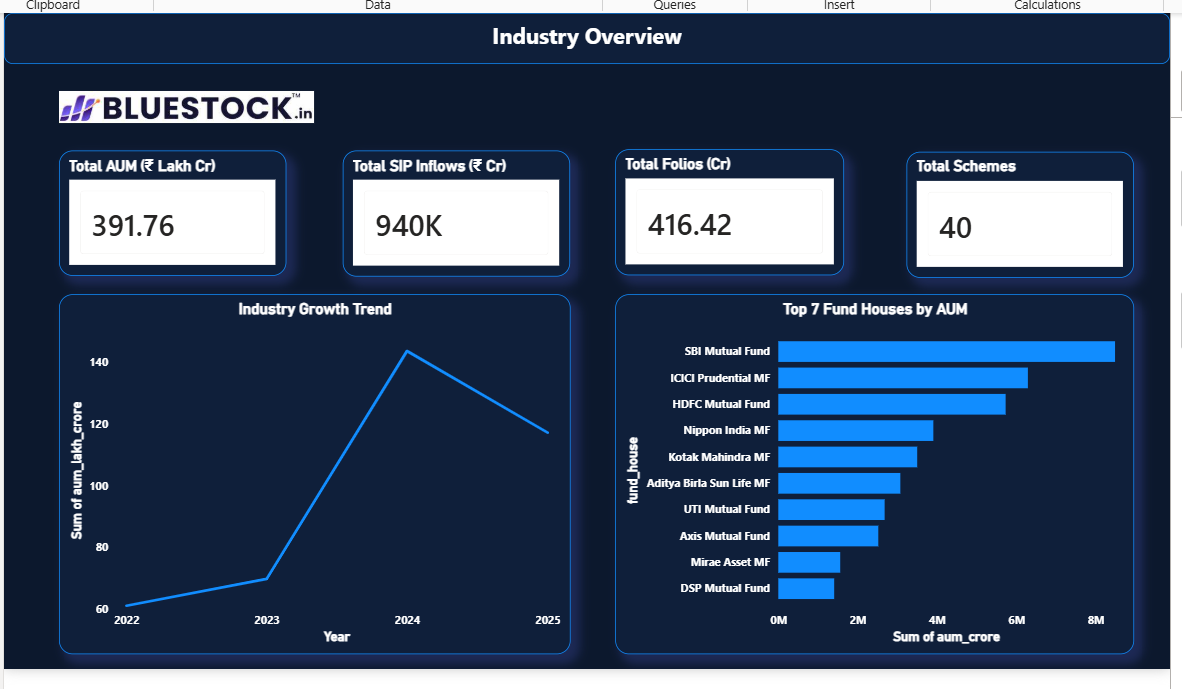

The dashboard page shown, as its layout file describes it:
{"tool":"powerbi","page":{"name":"Page 1","canvas":[1280,720],"ordinal":0},"visuals":[{"type":"textbox","box":[0,0,1280.3,56.3],"z":0},{"type":"cardVisual","title":"Total AUM (₹ Lakh Cr)","fields":{"Data":["Sum(03_aum_by_fund_house_clean.aum_lakh_crore)"]},"box":[60.4,150.9,249.7,137.2],"z":1000},{"type":"cardVisual","title":"Total SIP Inflows (₹ Cr)","fields":{"Data":["Sum(04_monthly_sip_inflows_clean.sip_inflow_crore)"]},"box":[371.9,150.9,249.7,138.6],"z":2000},{"type":"cardVisual","title":"Total Folios (Cr)","fields":{"Data":["Sum(06_industry_folio_count_clean.total_folios_crore)"]},"box":[671,149.6,251.1,138.6],"z":3000},{"type":"cardVisual","title":"Total Schemes","fields":{"Data":["Count(01_fund_master_clean.scheme_name)"]},"box":[990.7,152.3,249.7,138.6],"z":4000},{"type":"lineChart","title":"Industry Growth Trend","fields":{"Y":["Sum(03_aum_by_fund_house_clean.aum_lakh_crore)"],"Category":["03_aum_by_fund_house_clean.date.Variation.Date Hierarchy.Year","03_aum_by_fund_house_clean.date.Variation.Date Hierarchy.Quarter","03_aum_by_fund_house_clean.date.Variation.Date Hierarchy.Month","03_aum_by_fund_house_clean.date.Variation.Date Hierarchy.Day"]},"box":[60.4,308.7,561.2,395.2],"z":5000},{"type":"clusteredBarChart","title":"Top 7 Fund Houses by AUM","fields":{"Category":["03_aum_by_fund_house_clean.fund_house"],"Y":["Sum(03_aum_by_fund_house_clean.aum_crore)"]},"box":[671,308.7,569.5,395.2],"z":6000},{"type":"image","box":[60.4,0,279.9,205.8],"z":7000}]}

Visuals, with their boxes on the page's 1280x720 design canvas (x1, y1, x2, y2). These are canvas units, not pixel positions in the 1182x689 screenshot, which may show the page scaled, cropped or inside an application window:
textbox: (0,0,1280,56)
"Total AUM (₹ Lakh Cr)" cardVisual: (60,151,310,288)
"Total SIP Inflows (₹ Cr)" cardVisual: (372,151,622,290)
"Total Folios (Cr)" cardVisual: (671,150,922,288)
"Total Schemes" cardVisual: (991,152,1240,291)
"Industry Growth Trend" lineChart: (60,309,622,704)
"Top 7 Fund Houses by AUM" clusteredBarChart: (671,309,1240,704)
image: (60,0,340,206)
